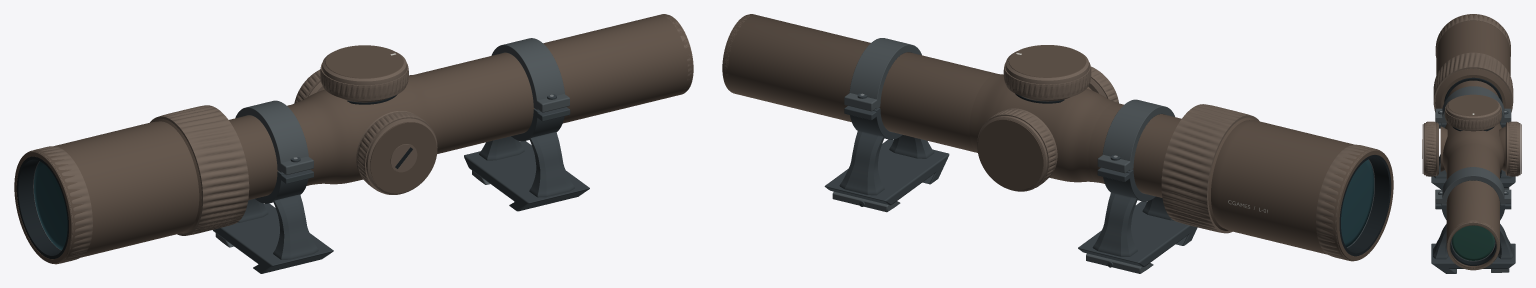
File: L01_LowPower_Variable_A5_Rail.glb
3 views of the same model, side by side, from view 1: azimuth 30°, elevation 25°; view 2: azimuth 150°, elevation 25°; view 3: azimuth 270°, elevation 25° (orthographic). The views are drawn at different scales.
Visible parts, largest first — view 1: 01 MAIN SHELL | continuous quiet tube and rounded shoulders, 07 WIDE REAR GRIP | diagonal recessed bands, 10.0 LOCAL BASE | independent front crown and fixed return, 06 SIDE FACE -1, 10.1 LOCAL BASE | independent rear crown and fixed return, 08.1 RING UPPER, 08.0 RING UPPER, 07 NARROW OCULAR GRIP, 05 TOP FACE | quiet disk, 02 REAR INNER | dark edge, 09.0.-1 CURVED INTEGRAL FORK, 09.1.-1 CURVED INTEGRAL FORK (+13 smaller); view 2: 01 MAIN SHELL | continuous quiet tube and rounded shoulders, 07 WIDE REAR GRIP | diagonal recessed bands, 06 SIDE FACE 1, 10.0 LOCAL BASE | independent front crown and fixed return, 10.1 LOCAL BASE | independent rear crown and fixed return, 08.1 RING UPPER, 08.0 RING UPPER, 07 NARROW OCULAR GRIP, 05 TOP FACE | quiet disk, 02 REAR INNER | dark edge, 09.1.1 CURVED INTEGRAL FORK, 04 REAR VISUAL PANE (+15 smaller); view 3: 01 MAIN SHELL | continuous quiet tube and rounded shoulders, 07 WIDE REAR GRIP | diagonal recessed bands, 04 FRONT VISUAL PANE, 07 GRIP ROUND SHOULDERS, 08.0 RING UPPER, 05 TOP FACE | quiet disk, 10.0 LOCAL BASE | independent front crown and fixed return, 06 SIDE GRIP 1, 05 TOP CAP | shallow diamond valleys, 06 SIDE GRIP -1, 08.1 RING UPPER, 07 NARROW OCULAR GRIP (+20 smaller).
Part boxes in pixels (box(x1,y1,x2,y2)): 01 MAIN SHELL | continuous quiet tube and rounded shoulders: box(14, 14, 692, 264); 07 WIDE REAR GRIP | diagonal recessed bands: box(150, 105, 249, 235); 10.0 LOCAL BASE | independent front crown and fixed return: box(464, 141, 589, 211); 06 SIDE FACE -1: box(370, 122, 436, 193); 10.1 LOCAL BASE | independent rear crown and fixed return: box(213, 203, 333, 273); 08.1 RING UPPER: box(235, 100, 308, 172); 08.0 RING UPPER: box(491, 38, 564, 110); 07 NARROW OCULAR GRIP: box(26, 146, 92, 263); 05 TOP FACE | quiet disk: box(325, 45, 403, 78); 02 REAR INNER | dark edge: box(16, 156, 68, 258); 09.0.-1 CURVED INTEGRAL FORK: box(529, 132, 574, 197); 09.1.-1 CURVED INTEGRAL FORK: box(273, 194, 318, 259); 01 MAIN SHELL | continuous quiet tube and rounded shoulders: box(723, 14, 1393, 261); 07 WIDE REAR GRIP | diagonal recessed bands: box(1161, 104, 1259, 233); 06 SIDE FACE 1: box(978, 119, 1043, 190); 10.0 LOCAL BASE | independent front crown and fixed return: box(824, 139, 949, 205); 10.1 LOCAL BASE | independent rear crown and fixed return: box(1078, 201, 1197, 266); 08.1 RING UPPER: box(1102, 99, 1174, 170); 08.0 RING UPPER: box(849, 38, 921, 109); 07 NARROW OCULAR GRIP: box(1316, 144, 1384, 260); 05 TOP FACE | quiet disk: box(1008, 45, 1086, 77); 02 REAR INNER | dark edge: box(1339, 155, 1391, 256); 09.1.1 CURVED INTEGRAL FORK: box(1092, 192, 1137, 256); 04 REAR VISUAL PANE: box(1341, 160, 1374, 247); 01 MAIN SHELL | continuous quiet tube and rounded shoulders: box(1436, 14, 1510, 268); 07 WIDE REAR GRIP | diagonal recessed bands: box(1433, 52, 1513, 112); 04 FRONT VISUAL PANE: box(1452, 225, 1494, 260); 07 GRIP ROUND SHOULDERS: box(1435, 68, 1511, 108); 08.0 RING UPPER: box(1441, 167, 1505, 204); 05 TOP FACE | quiet disk: box(1448, 94, 1498, 116); 10.0 LOCAL BASE | independent front crown and fixed return: box(1431, 243, 1515, 273); 06 SIDE GRIP 1: box(1508, 121, 1518, 176); 05 TOP CAP | shallow diamond valleys: box(1444, 106, 1501, 129); 06 SIDE GRIP -1: box(1426, 121, 1435, 176); 08.1 RING UPPER: box(1441, 86, 1505, 123); 07 NARROW OCULAR GRIP: box(1435, 14, 1510, 57).
Bounding box in the file's own units: 0.3782 × 0.0958 × 0.0798.
